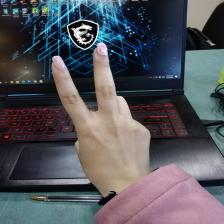two: (46, 40, 156, 181)
